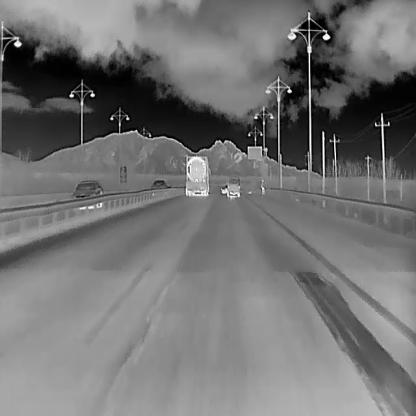car: (71, 180, 103, 209), (225, 176, 241, 198), (149, 179, 168, 191), (218, 183, 228, 194), (259, 178, 265, 194), (246, 189, 252, 195)
truck: (184, 155, 211, 197)
